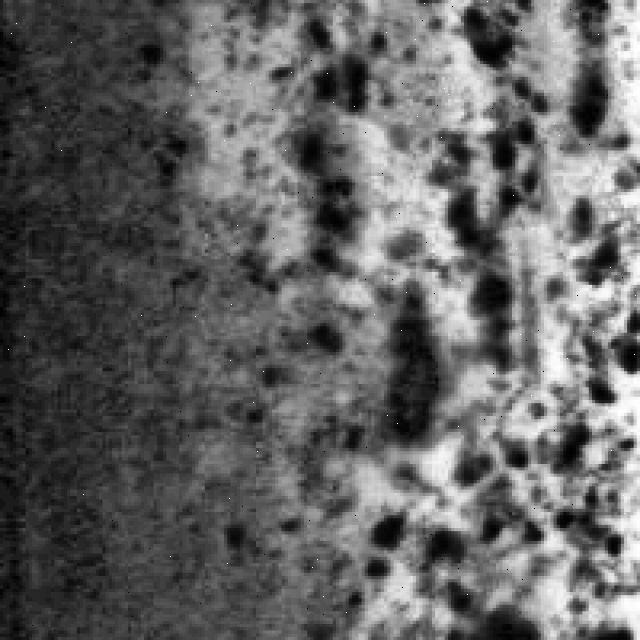Rolled_in_Scale: (198, 9, 640, 630)
